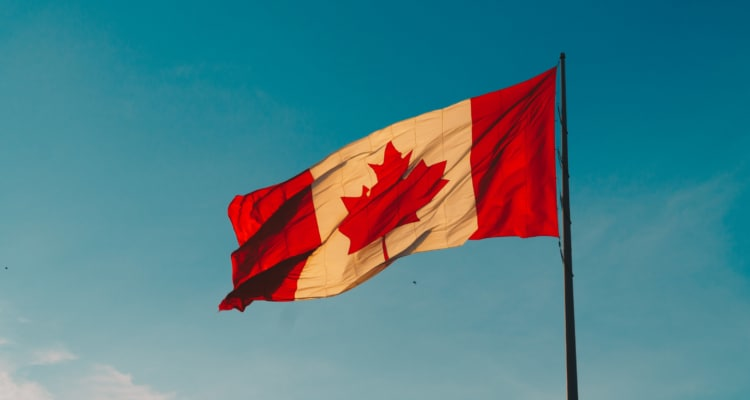Canada flag: (213, 67, 557, 315)
